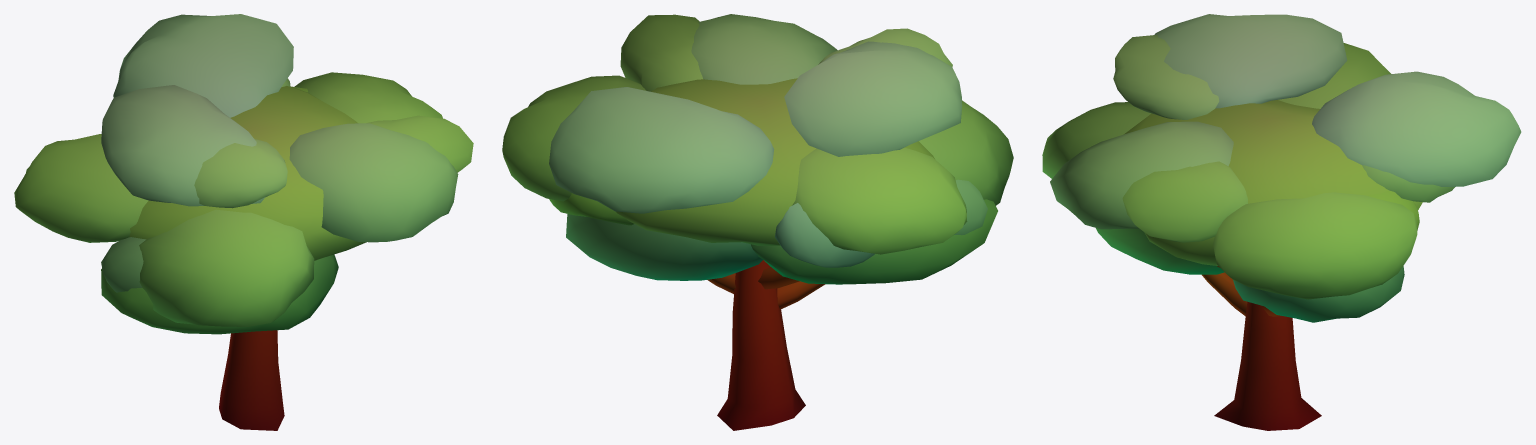
Rendered from oak_a.glb.
3 views of the same model, side by side, from view 1: azimuth 30°, elevation 25°; view 2: azimuth 150°, elevation 25°; view 3: azimuth 270°, elevation 25° (orthographic). The views are drawn at different scales.
Parts seen in each view (by area): view 1: oak_a_LOD0; view 2: oak_a_LOD0; view 3: oak_a_LOD0.
Part boxes in pixels (x1=…): oak_a_LOD0: x1=14, y1=14, x2=473, y2=430; oak_a_LOD0: x1=502, y1=14, x2=1013, y2=430; oak_a_LOD0: x1=1042, y1=14, x2=1521, y2=430.
Size of what is drawn, in the model's own units: 9.96 by 7.84 by 9.64.
